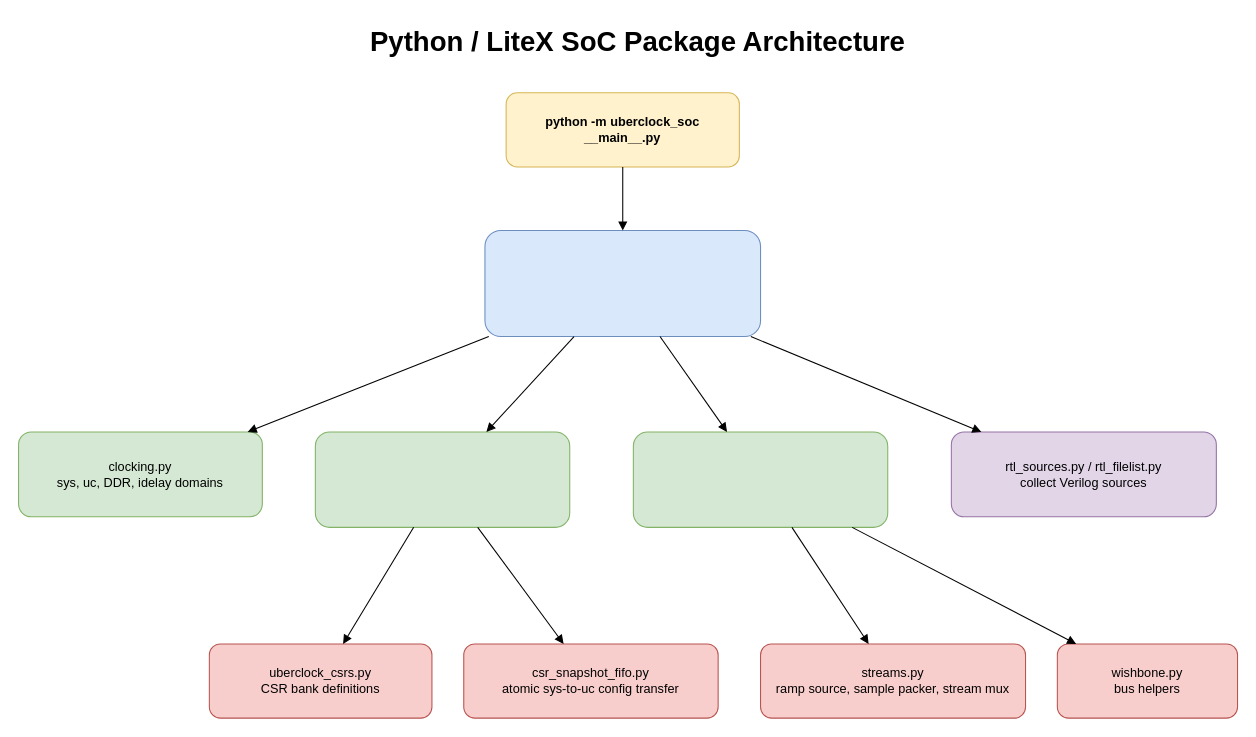
Some shapes in this 1256 by 737 pixel diagram are drawn without their labels. Here are the shapes that lost their labels. From the top down, the centre of each, then its label:
(x=622, y=283): soc.py build_main(), BaseSoC platform, CRG, SoCCore
(x=442, y=479): uberclock_core.py wraps Verilog uberclock events, debug, capture
(x=760, y=479): ubddr3.py side memory, stream mux, DMA integration
